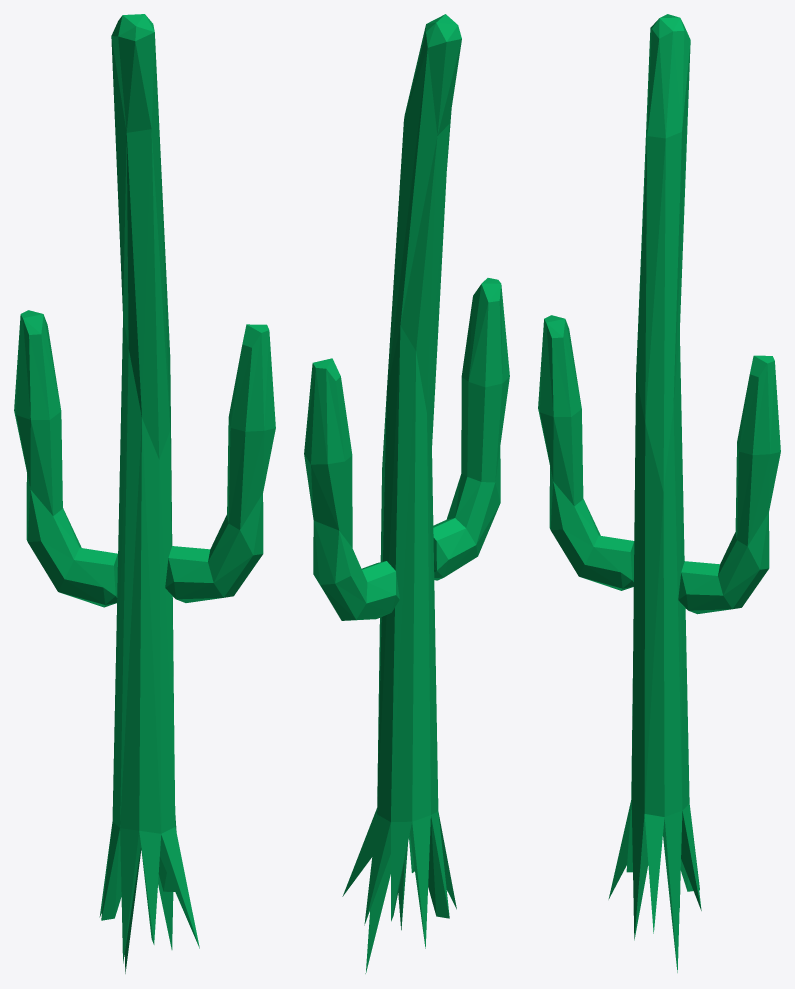
The model's file is SeguaroCactusLarge2_LOD1.fbx.
3 views of the same model, side by side, from view 1: azimuth 90°, elevation 25°; view 2: azimuth 150°, elevation 25°; view 3: azimuth 270°, elevation 25° (orthographic). The views are drawn at different scales.
Parts seen in each view (by area): view 1: SeguaroCactusLarge2_LOD1; view 2: SeguaroCactusLarge2_LOD1; view 3: SeguaroCactusLarge2_LOD1.
Boxes of the visible parts, x1,y1,x2,y2 form: SeguaroCactusLarge2_LOD1: (14, 14, 275, 973); SeguaroCactusLarge2_LOD1: (304, 14, 509, 973); SeguaroCactusLarge2_LOD1: (538, 14, 780, 972).
Bounding box in the file's own units: 138 × 578 × 79.45.
